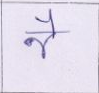au_matra: (36, 11, 62, 58)
